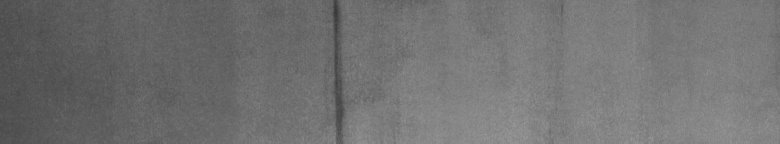hd: (324, 4, 351, 136)
